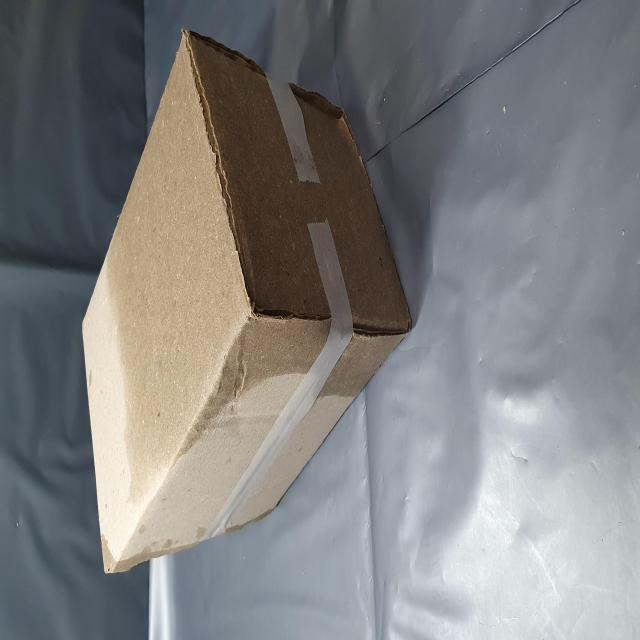wet: (83, 223, 340, 640)
